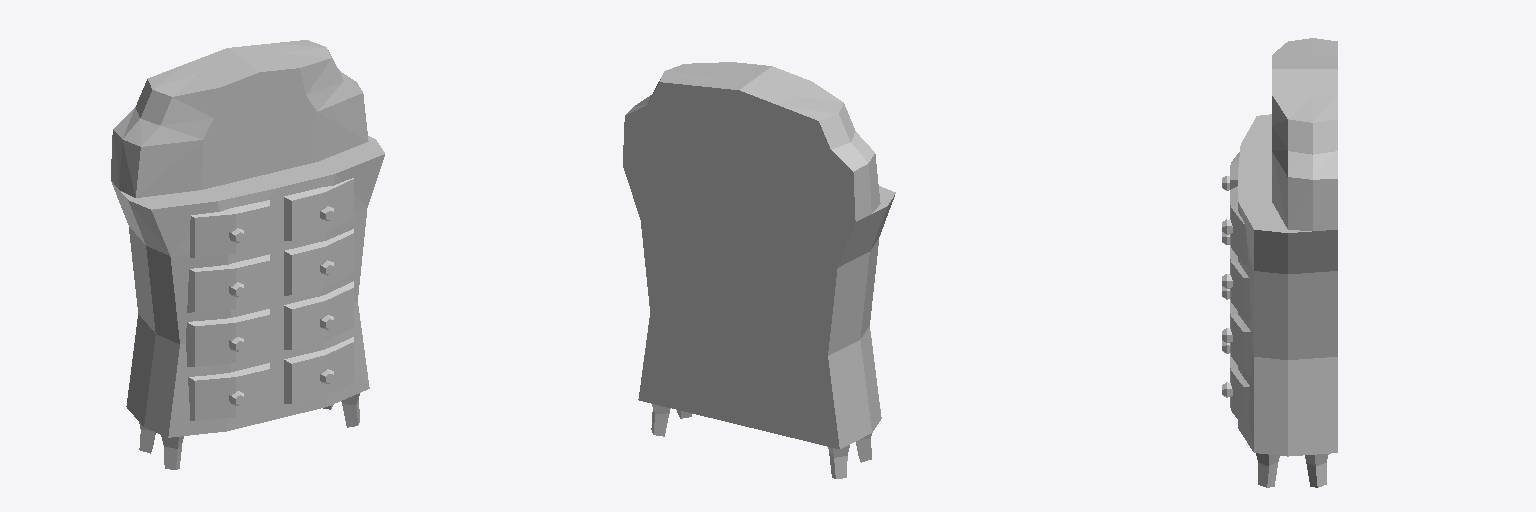
File: drawer.obj
3 renders of one model, left to right at view 1: azimuth 30°, elevation 25°; view 2: azimuth 150°, elevation 25°; view 3: azimuth 270°, elevation 25°, orthographic.
Parts seen in each view (by area): view 1: drawer; view 2: drawer; view 3: drawer.
Boxes of the visible parts, box(x1,y1,x2,y2) form: drawer: box(111, 40, 384, 469); drawer: box(623, 62, 895, 478); drawer: box(1222, 38, 1337, 487).
Size of the model in its own units: 2.86 by 4.13 by 1.16.